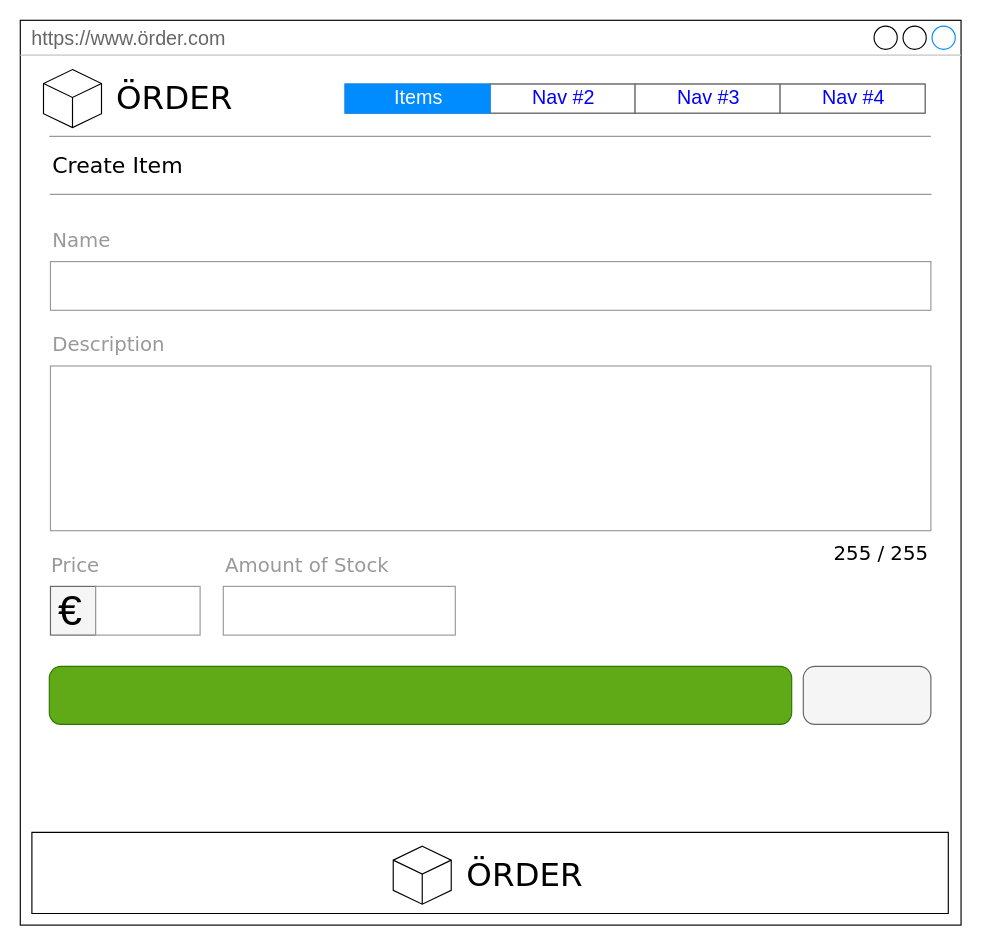
This 981x945 diagram has some shape labels left out. The shapes that lost their labels are listed below. From the top down, each one's box as (x1, y1, x2, y2) in pixels, then its label:
(48, 665, 792, 724): CREATE
(802, 665, 931, 724): CANCEL
